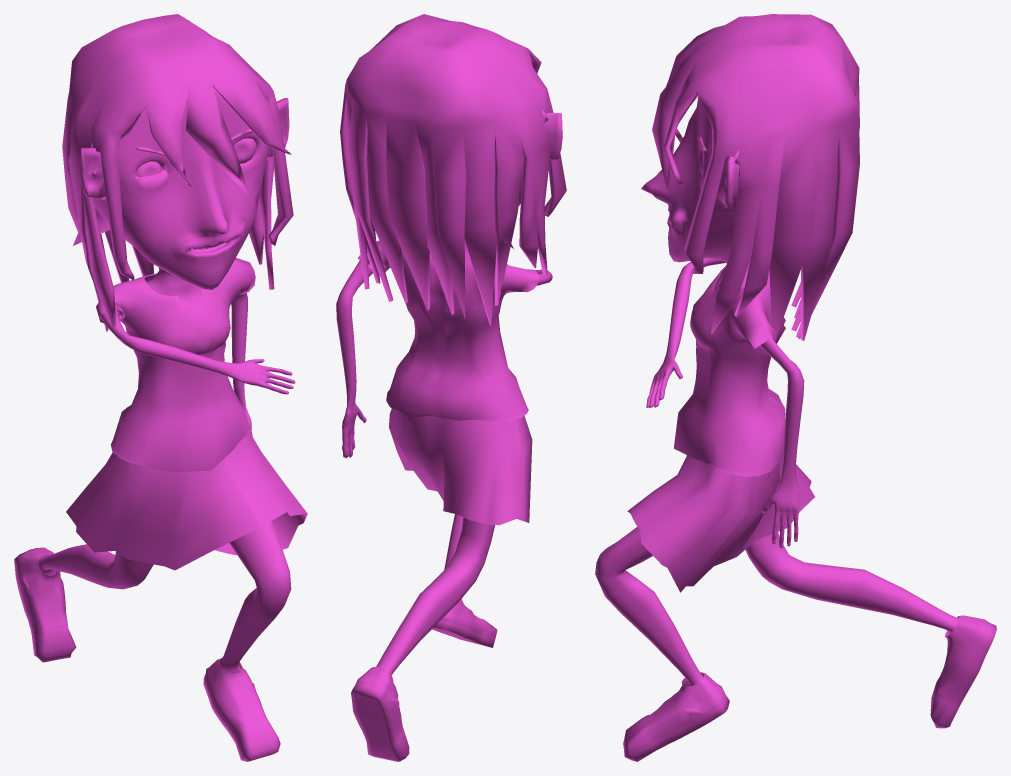
File: PlayerMoyaDash.glb
3 views of the same model, side by side, from view 1: azimuth 30°, elevation 25°; view 2: azimuth 150°, elevation 25°; view 3: azimuth 270°, elevation 25° (orthographic). The views are drawn at different scales.
Parts seen in each view (by area): view 1: moyaCharacter; view 2: moyaCharacter; view 3: moyaCharacter.
Part boxes in pixels (x1,y1,x2,y2): moyaCharacter: (14,14,307,761); moyaCharacter: (336,14,566,761); moyaCharacter: (595,14,996,761).
Size of the model in its own units: 0.5015 by 1.57 by 0.8048.
